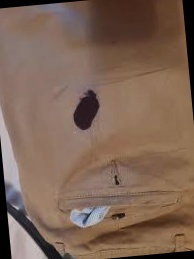ink: (70, 92, 102, 133)
